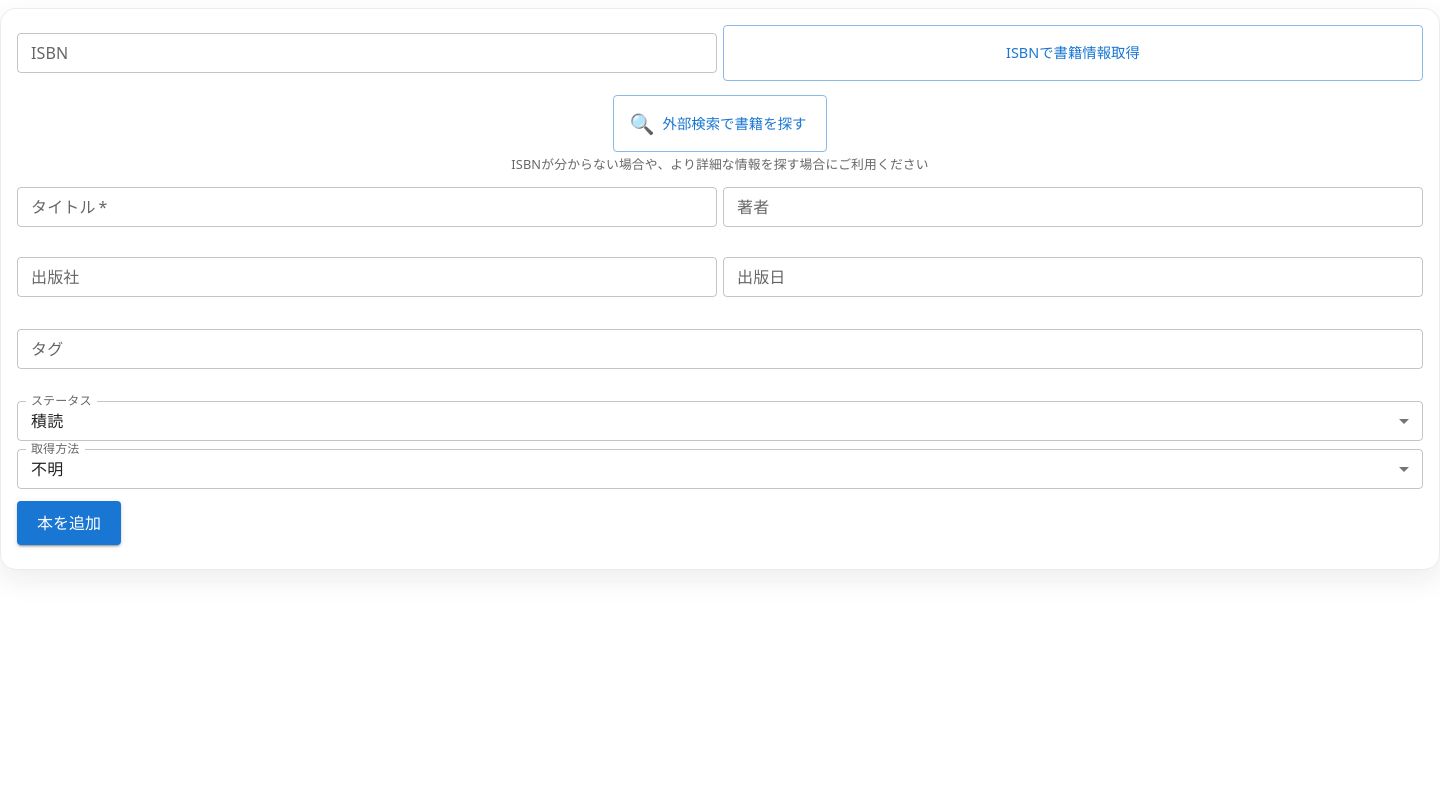
Test: BookForm › fetches complete book info including publisher and publish date
# ISBNを入力（stringであることを明示）
Type "9784873119485" into the field with test id "book-isbn-input" at (367, 53), box [17,33,717,73]
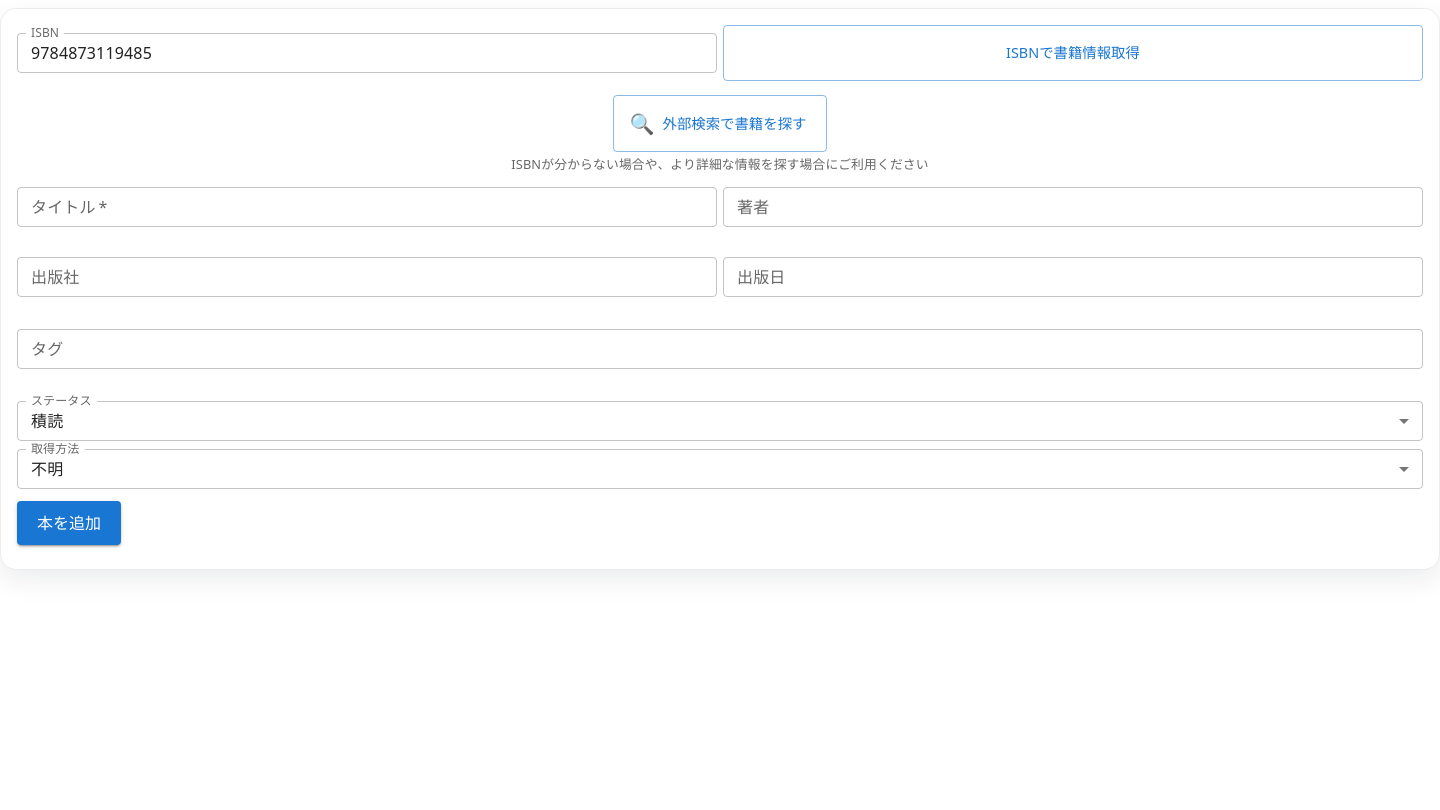
# ISBN取得ボタンをクリック
Click the button with test id "book-fetch-button" at (1073, 53), box [723,25,1423,81]
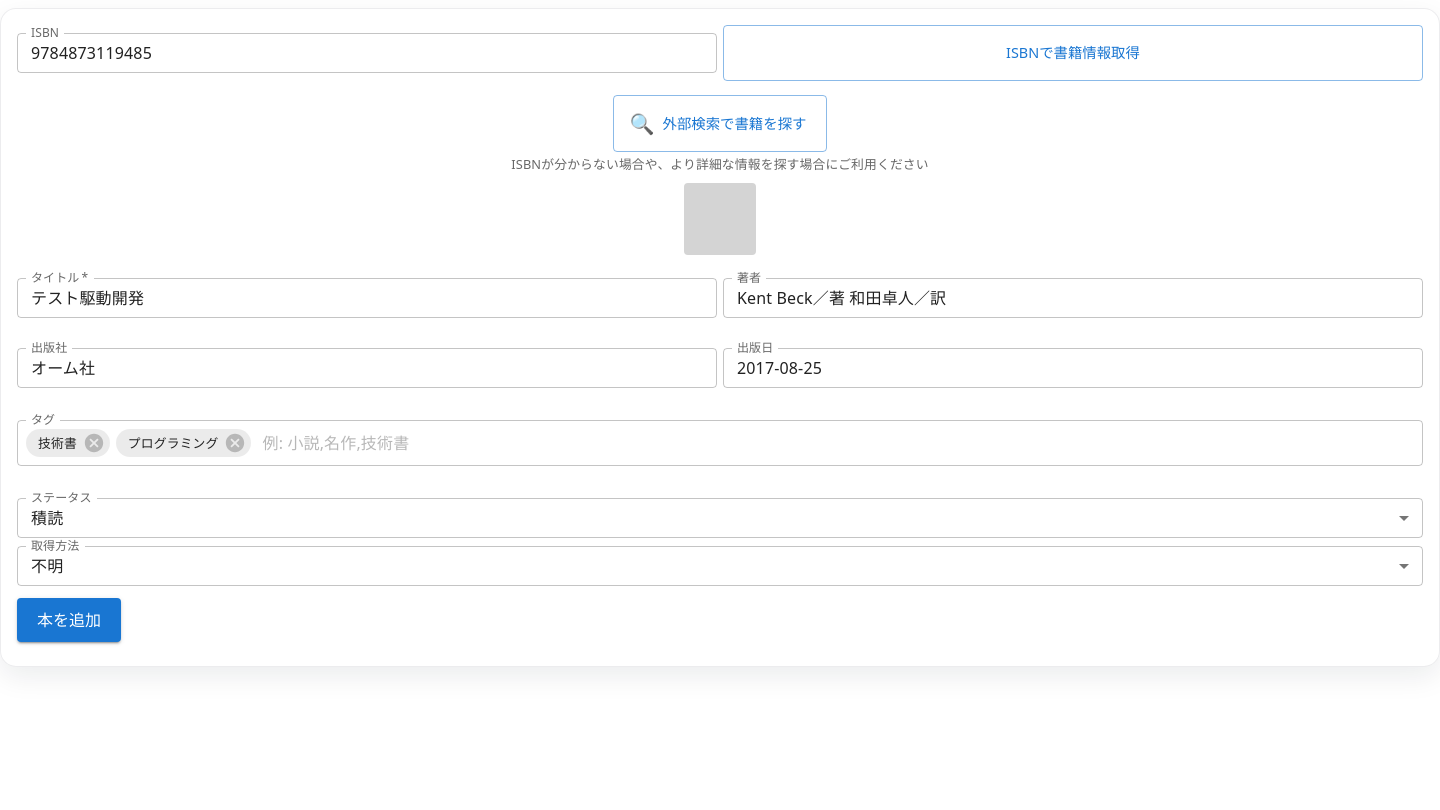
Expected: the field with test id "book-title-input" holds "テスト駆動開発", [17,278,717,318]
Expected: the field with test id "book-author-input" holds "Kent Beck／著 和田卓人／訳", [723,278,1423,318]
Expected: the field with test id "book-publisher-input" holds "オーム社", [17,348,717,388]
